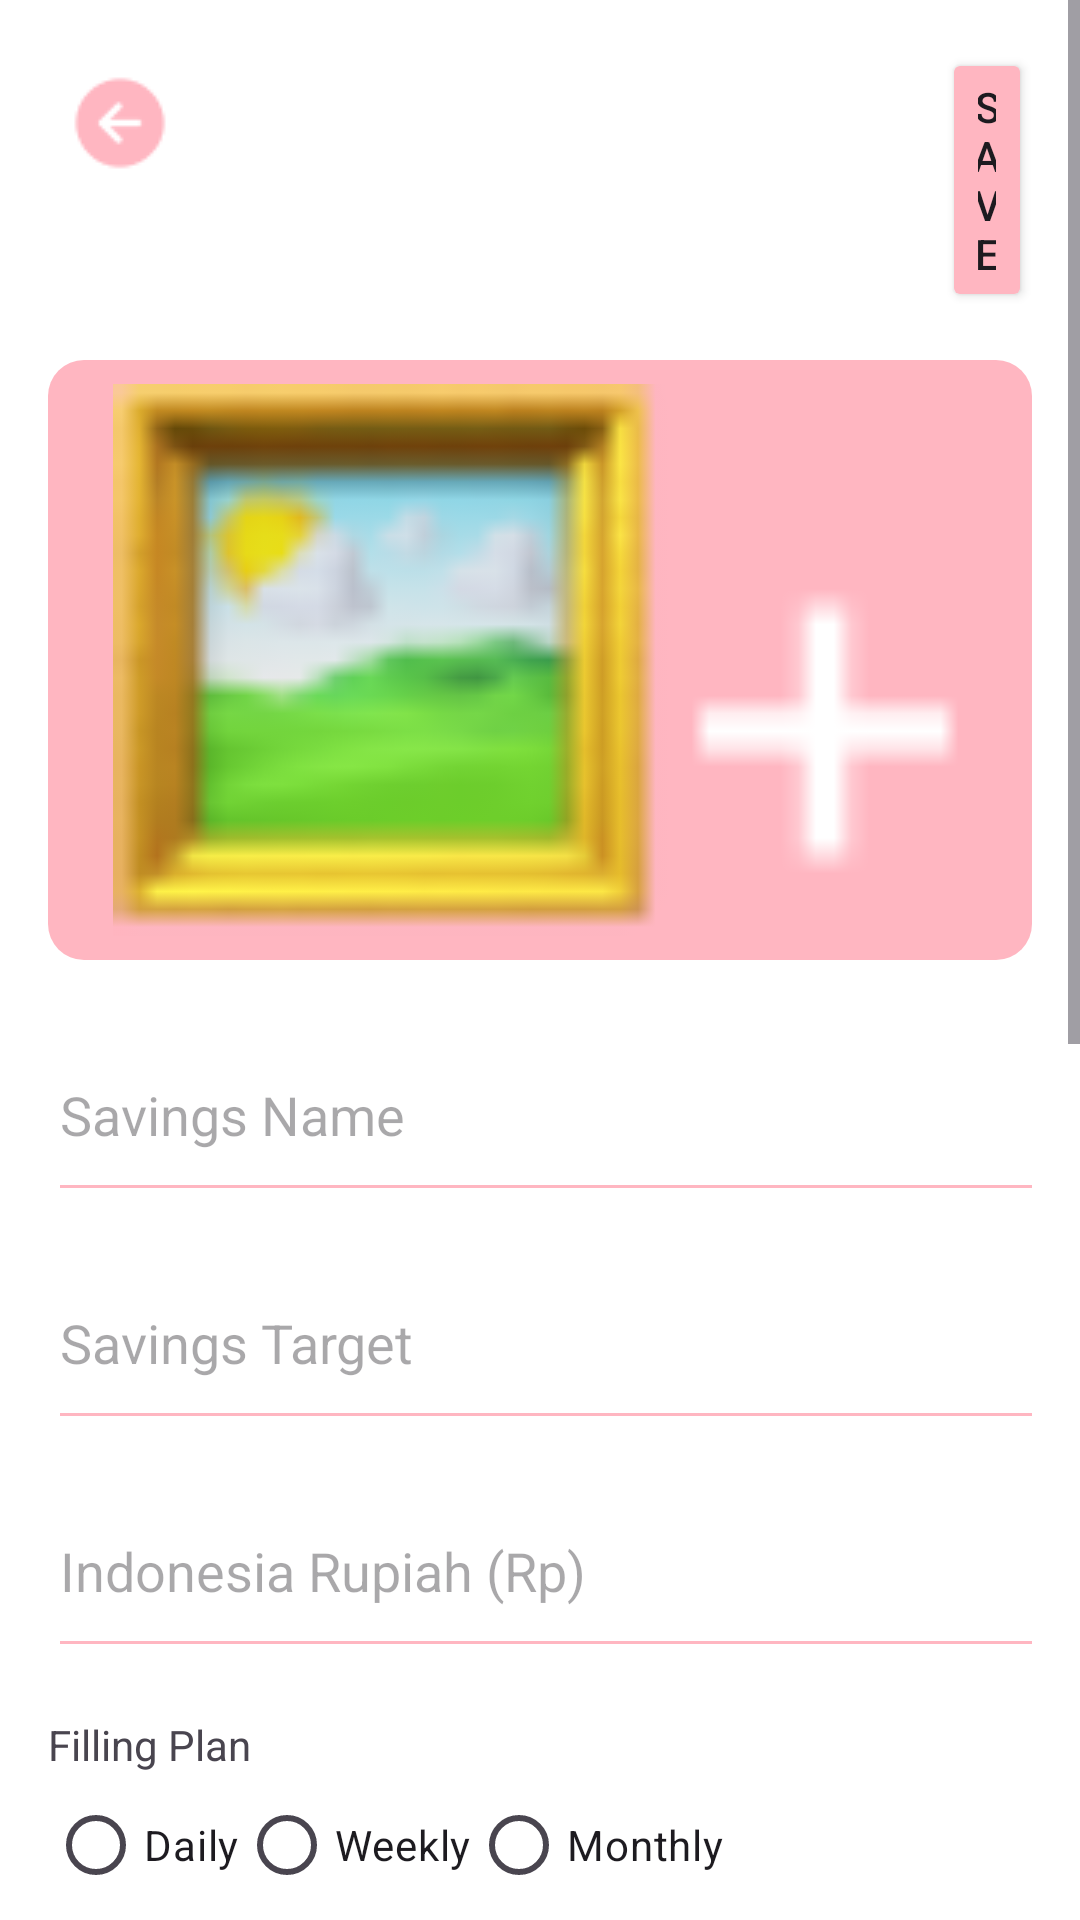

Named icons in this screenshot (1080*1920) and their bounding boxes, (x1, y1, x2, y2):
Icon Back: (75, 78, 165, 168)
